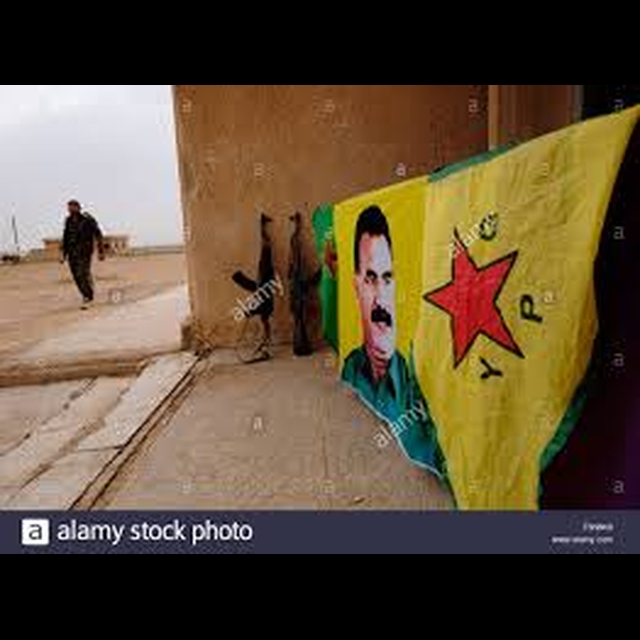AK47: (221, 211, 283, 370), (281, 203, 323, 374)
APO: (343, 202, 411, 370)
YPG: (427, 210, 557, 396)
